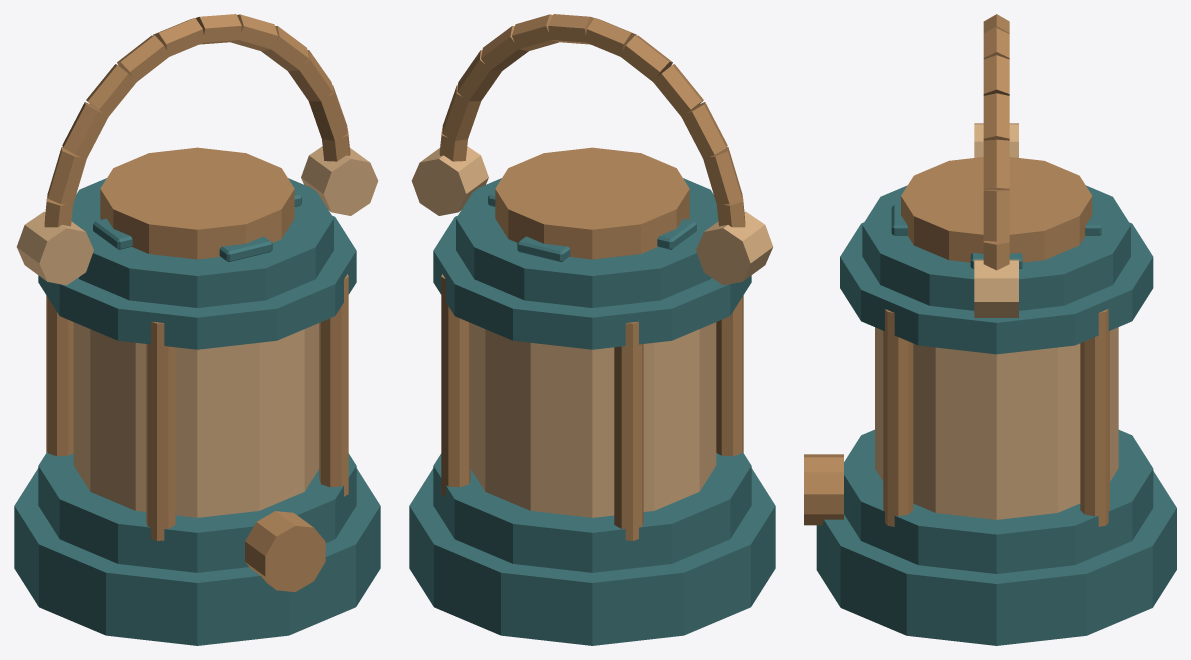
3 views of the same model, side by side, from view 1: azimuth 30°, elevation 25°; view 2: azimuth 150°, elevation 25°; view 3: azimuth 270°, elevation 25° (orthographic).
Parts seen in each view (by area): view 1: camping-lantern-01; view 2: camping-lantern-01; view 3: camping-lantern-01.
Boxes of the visible parts, x1,y1,x2,y2 form: camping-lantern-01: (14, 14, 380, 645); camping-lantern-01: (409, 14, 775, 645); camping-lantern-01: (804, 14, 1176, 645).
Size of the model in its own units: 0.31 by 0.4818 by 0.3.
